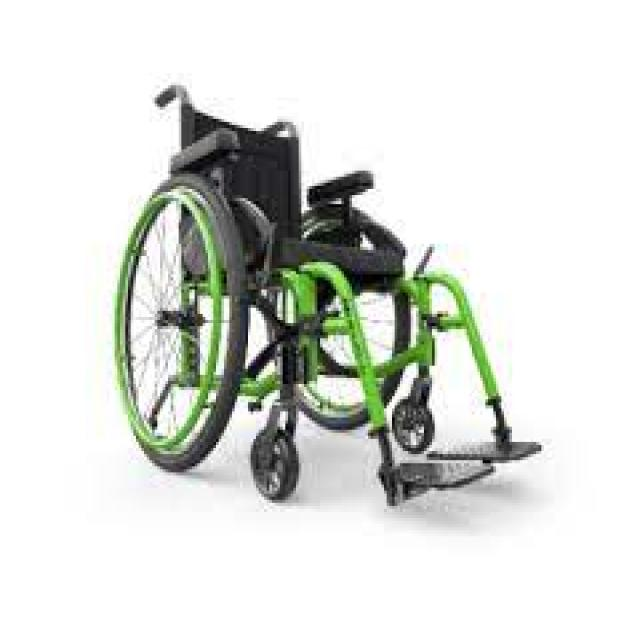wheelchairs: (112, 76, 544, 497)
